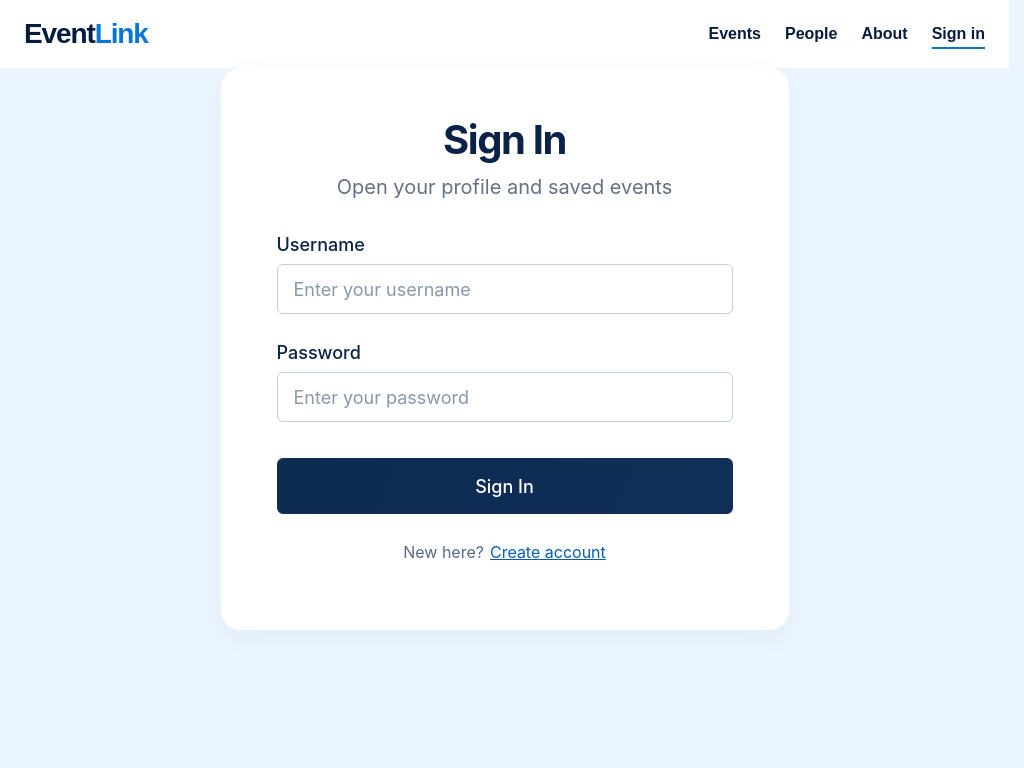
it: a sign-in failure (401) explains its cause and keeps the form usable
expect the button "Sign In" is enabled: met, box [276,458,732,514]
Type "account-owner" into the field labelled "Username".
click(504, 289); type("account-owner")  # box [276,264,732,314]
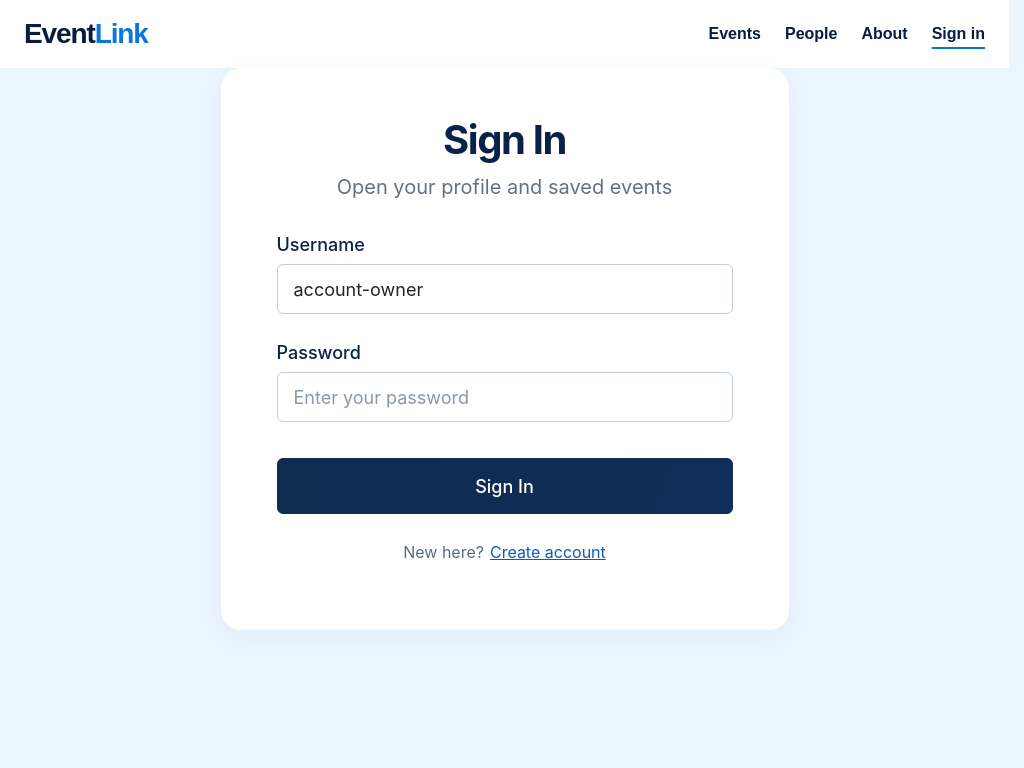
Type "test-password-123" into the password field labelled "Password".
click(504, 397); type("test-password-123")  # box [276,372,732,422]
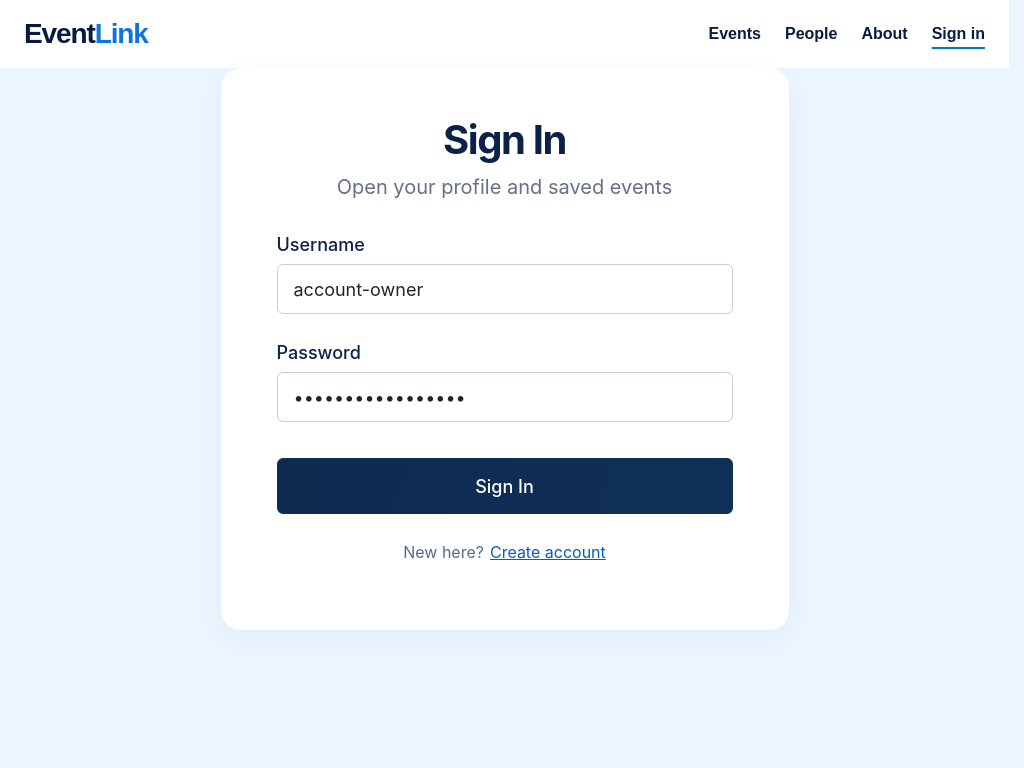
Click the button "Sign In".
click(504, 486)  # box [276,458,732,514]
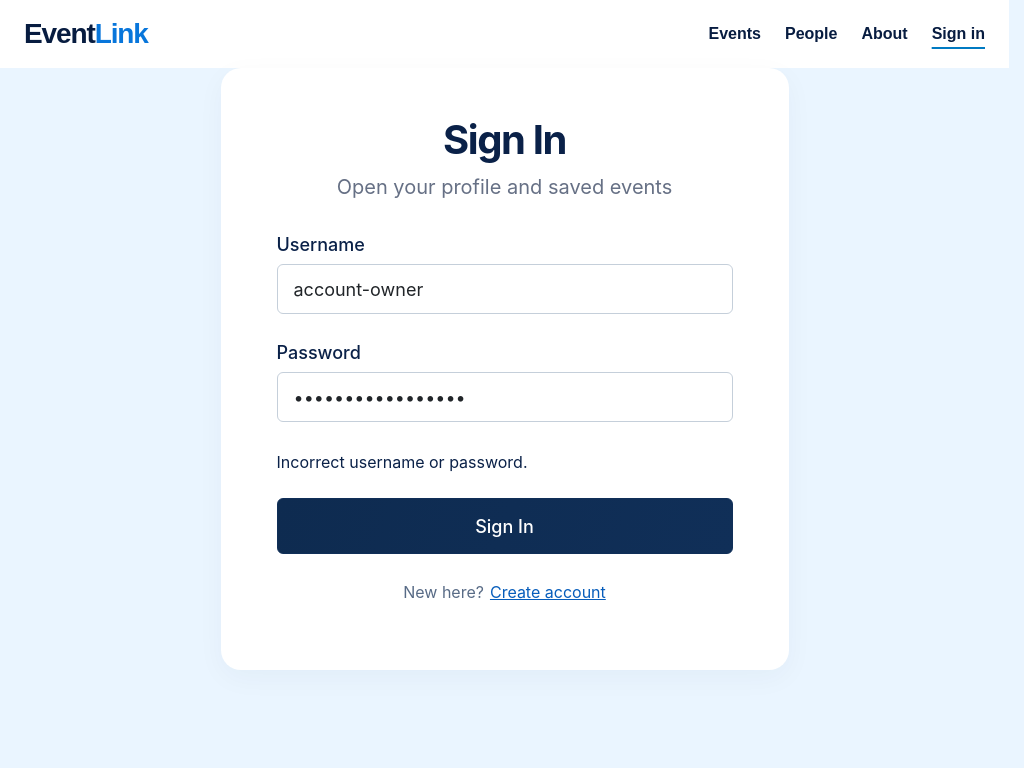
expect the button "Sign In" is enabled: met, box [276,498,732,554]
expect the message reads "Incorrect username or password.": met, box [276,452,528,472]
